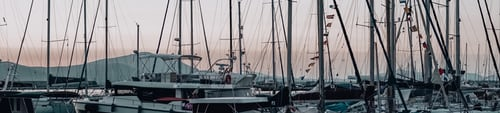yacht: (30, 1, 164, 113)
